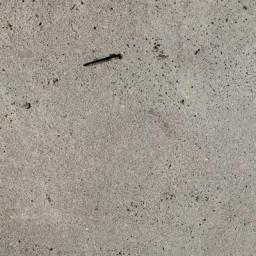FOD: (82, 52, 128, 70)
